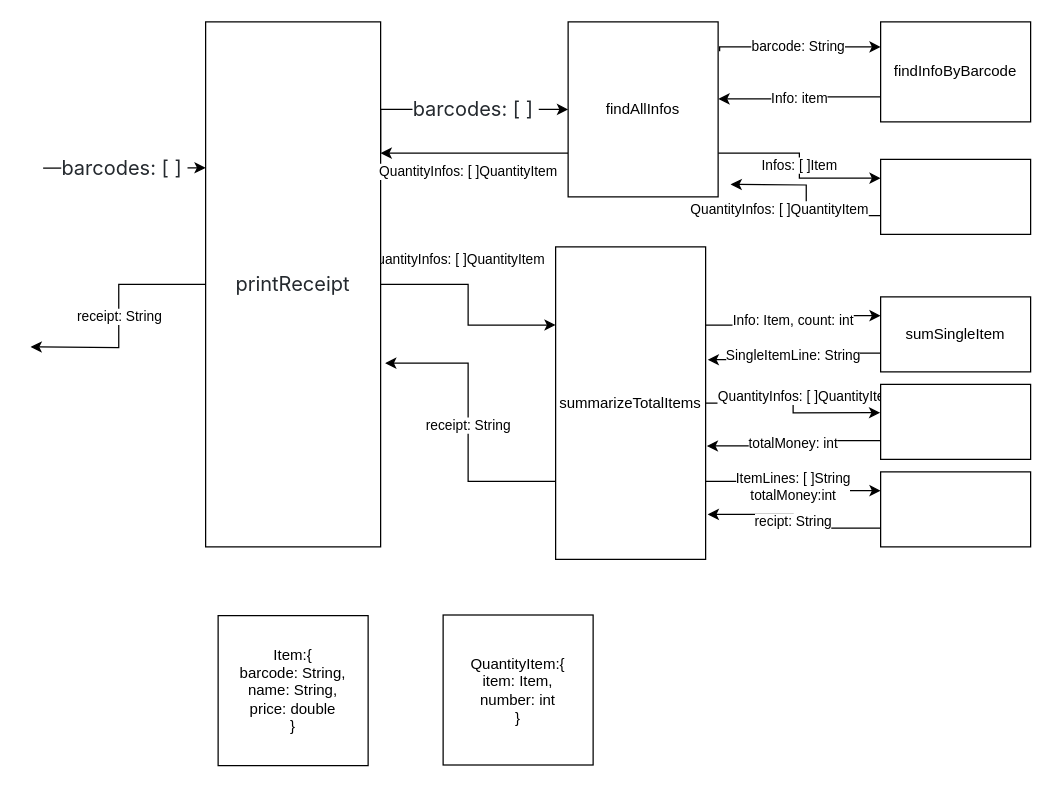
Image size: 1053x788. Some labels were removed from this diagram. Here are the shapes that lost their labels. From the top down, the centre of each, then its label:
At point 955,196: "countQuantity".
At point 955,421: "sumTotalMoney".
At point 955,509: "formatReceipt".
